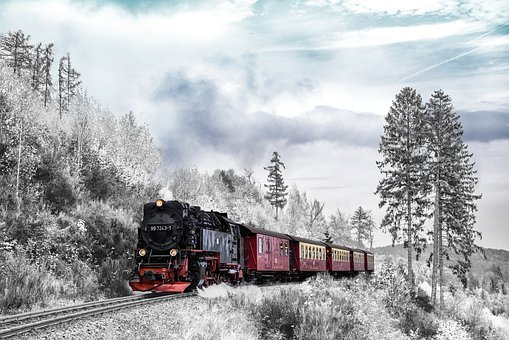forest: (3, 41, 142, 291), (220, 281, 509, 337)
sky: (118, 4, 509, 164)
tree: (384, 92, 468, 296)
